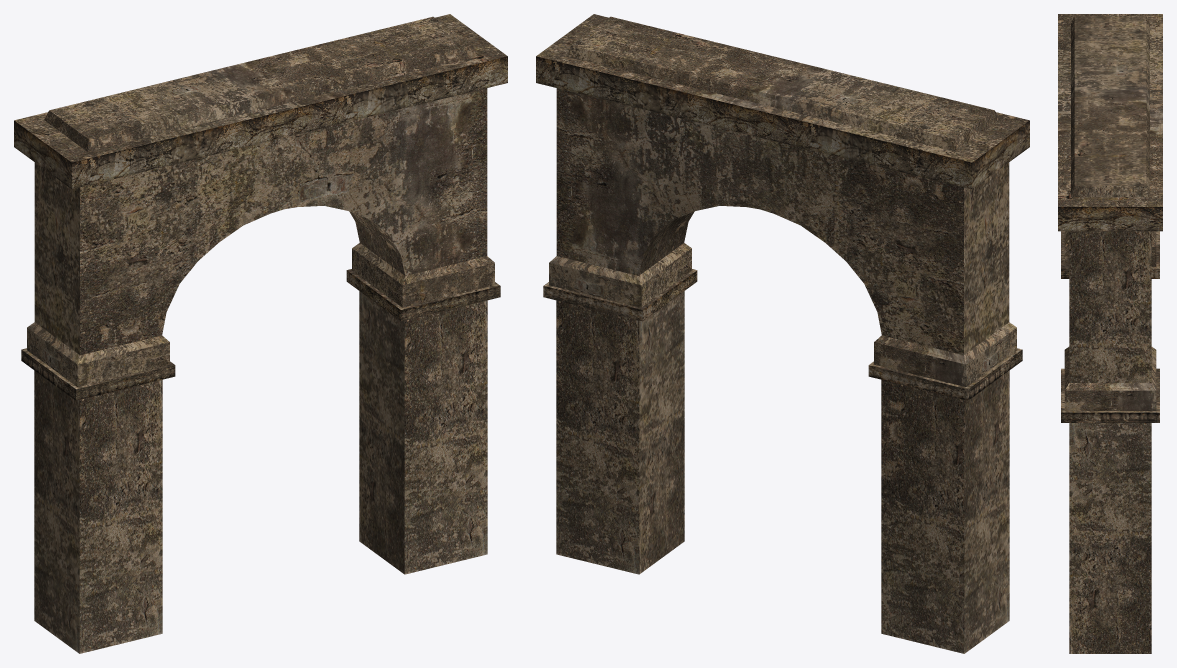
File: materials_5_gate_9.fbx
3 renders of one model, left to right at view 1: azimuth 30°, elevation 25°; view 2: azimuth 150°, elevation 25°; view 3: azimuth 270°, elevation 25°, orthographic. The views are drawn at different scales.
Parts seen in each view (by area): view 1: materials_5_gate_9; view 2: materials_5_gate_9; view 3: materials_5_gate_9.
Part boxes in pixels (x1,y1,x2,y2): materials_5_gate_9: [14, 14, 507, 653]; materials_5_gate_9: [536, 14, 1029, 653]; materials_5_gate_9: [1058, 14, 1162, 653].
Size of the model in its own units: 286 by 319 by 65.58.
